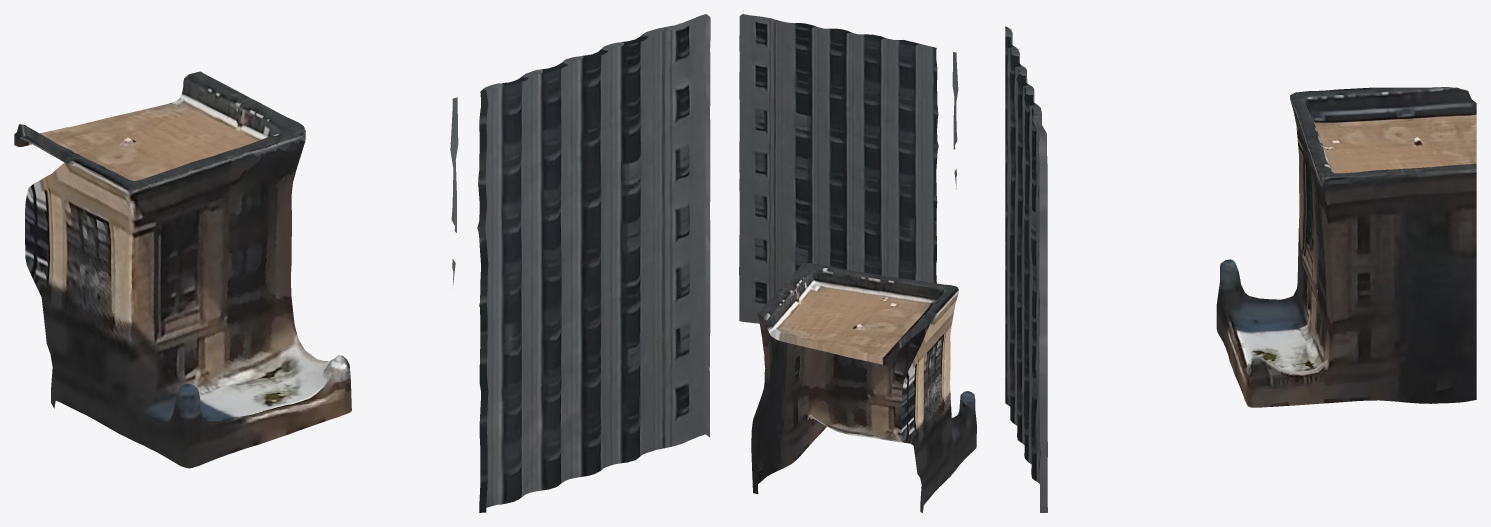
Rendered from z20-167771-405235-h1-yup-uvflip-v3-world.glb.
3 renders of one model, left to right at view 1: azimuth 30°, elevation 25°; view 2: azimuth 150°, elevation 25°; view 3: azimuth 270°, elevation 25°, orthographic. The views are drawn at different scales.
Bounding box in the file's own units: 30.16 × 27.4 × 30.32.
1 material, 1 textured.
